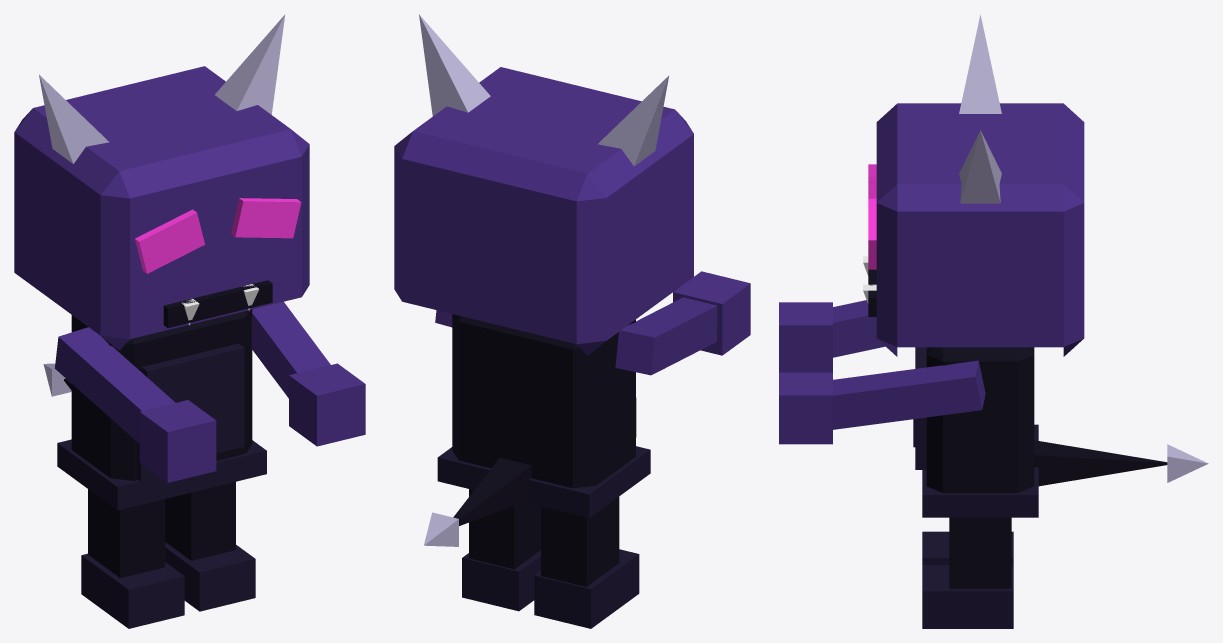
File: grunt_r16.glb
3 views of the same model, side by side, from view 1: azimuth 30°, elevation 25°; view 2: azimuth 150°, elevation 25°; view 3: azimuth 270°, elevation 25° (orthographic). The views are drawn at different scales.
Visible parts, largest first — view 1: grunt_r16_mesh; view 2: grunt_r16_mesh; view 3: grunt_r16_mesh.
Part boxes in pixels (x1,y1,x2,y2): grunt_r16_mesh: [14, 14, 365, 628]; grunt_r16_mesh: [394, 14, 750, 628]; grunt_r16_mesh: [779, 14, 1208, 628].
Size of the model in its own units: 0.7071 by 1.5 by 1.11.
1 material, 1 textured.
